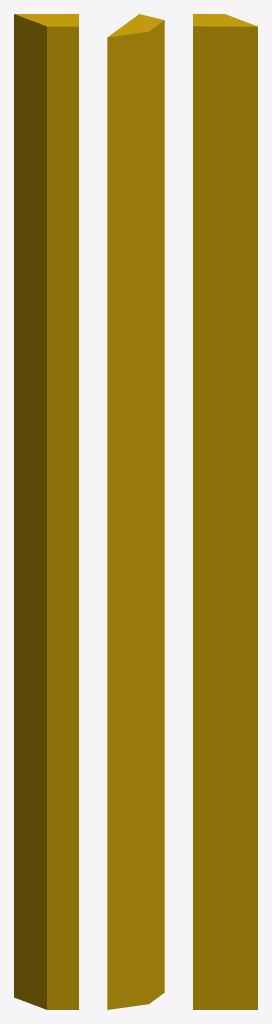
Rendered from simple_example_hole_part_9.obj.
3 views of the same model, side by side, from view 1: azimuth 90°, elevation 25°; view 2: azimuth 150°, elevation 25°; view 3: azimuth 270°, elevation 25° (orthographic).
Size of the model in its own units: 1.98 by 72.79 by 4.35.
